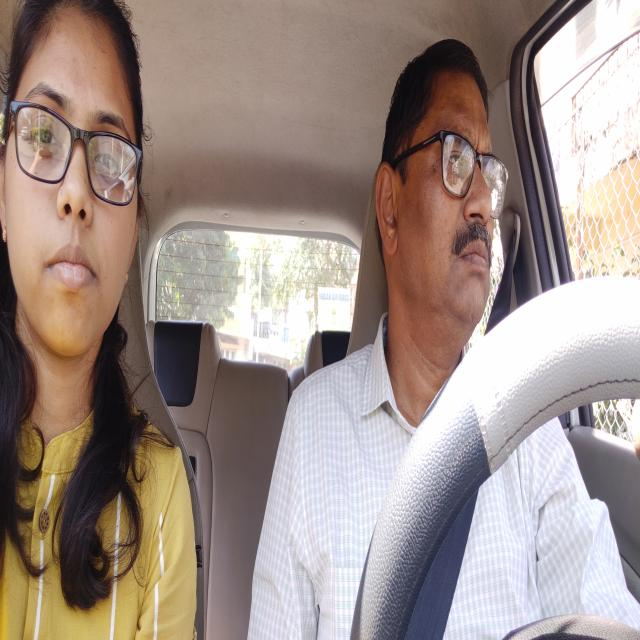LeftRight: (370, 25, 518, 376)
person: (0, 0, 152, 396)
